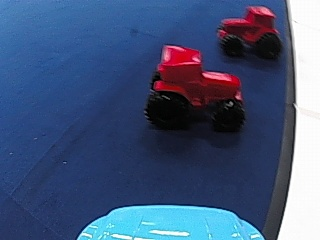tractor: (143, 39, 249, 136), (216, 5, 283, 59)
